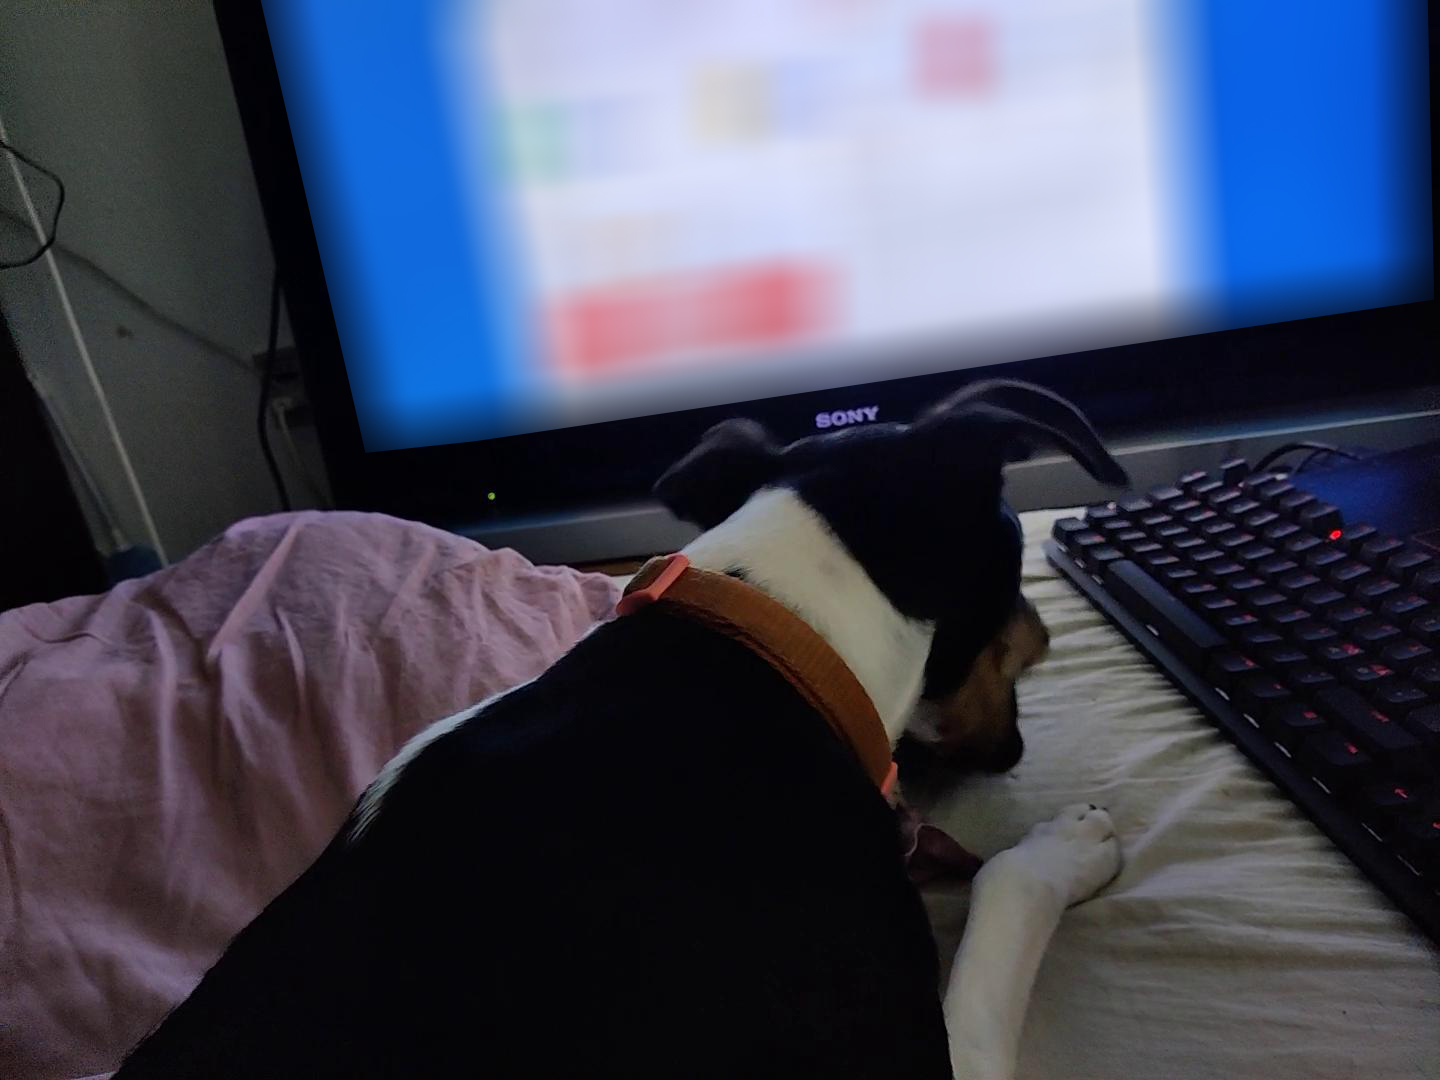Dog: (108, 376, 1135, 1079)
